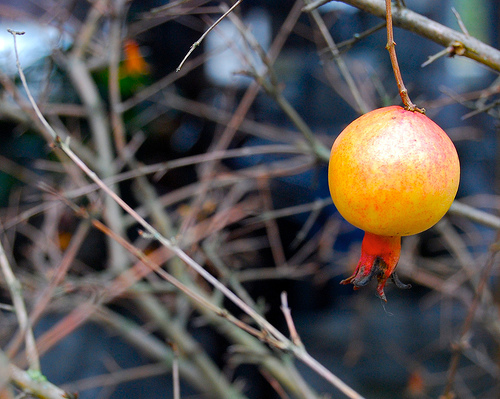pomogranate: (328, 105, 460, 304)
